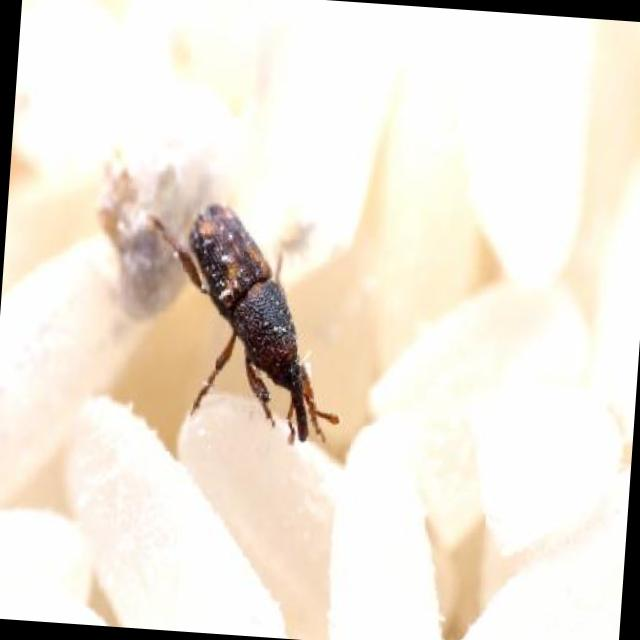rice-bug: (169, 198, 328, 441)
